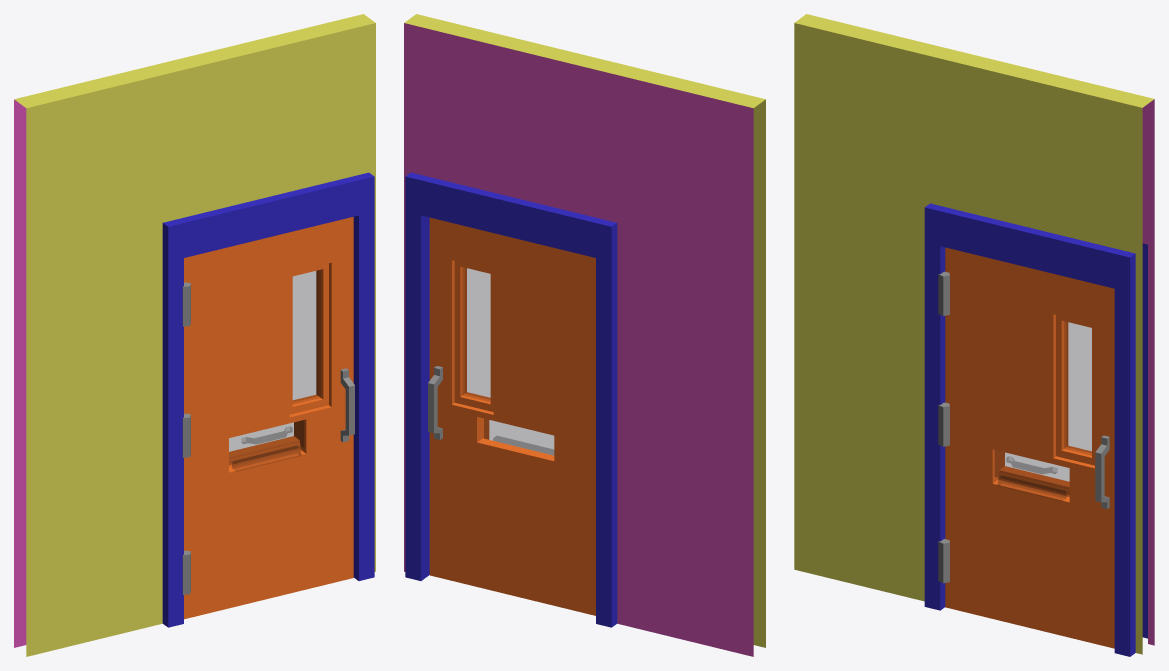
Rendered from SM_wall.fbx.
3 renders of one model, left to right at view 1: azimuth 30°, elevation 25°; view 2: azimuth 150°, elevation 25°; view 3: azimuth 330°, elevation 25°, orthographic.
Visible parts, largest first — view 1: wall, Cube_2, Cube_1; view 2: wall, Cube_2, Cube_1; view 3: wall, Cube_2, Cube_1.
Boxes of the visible parts, <box> form: wall: <box>14,14,375,656</box>; Cube_2: <box>182,217,354,619</box>; Cube_1: <box>229,420,303,470</box>; wall: <box>404,14,765,656</box>; Cube_2: <box>428,217,595,615</box>; Cube_1: <box>484,419,554,455</box>; wall: <box>794,14,1154,656</box>; Cube_2: <box>938,247,1114,648</box>; Cube_1: <box>995,450,1069,500</box>.
Size of the model in its own units: 200 by 300 by 29.47.
